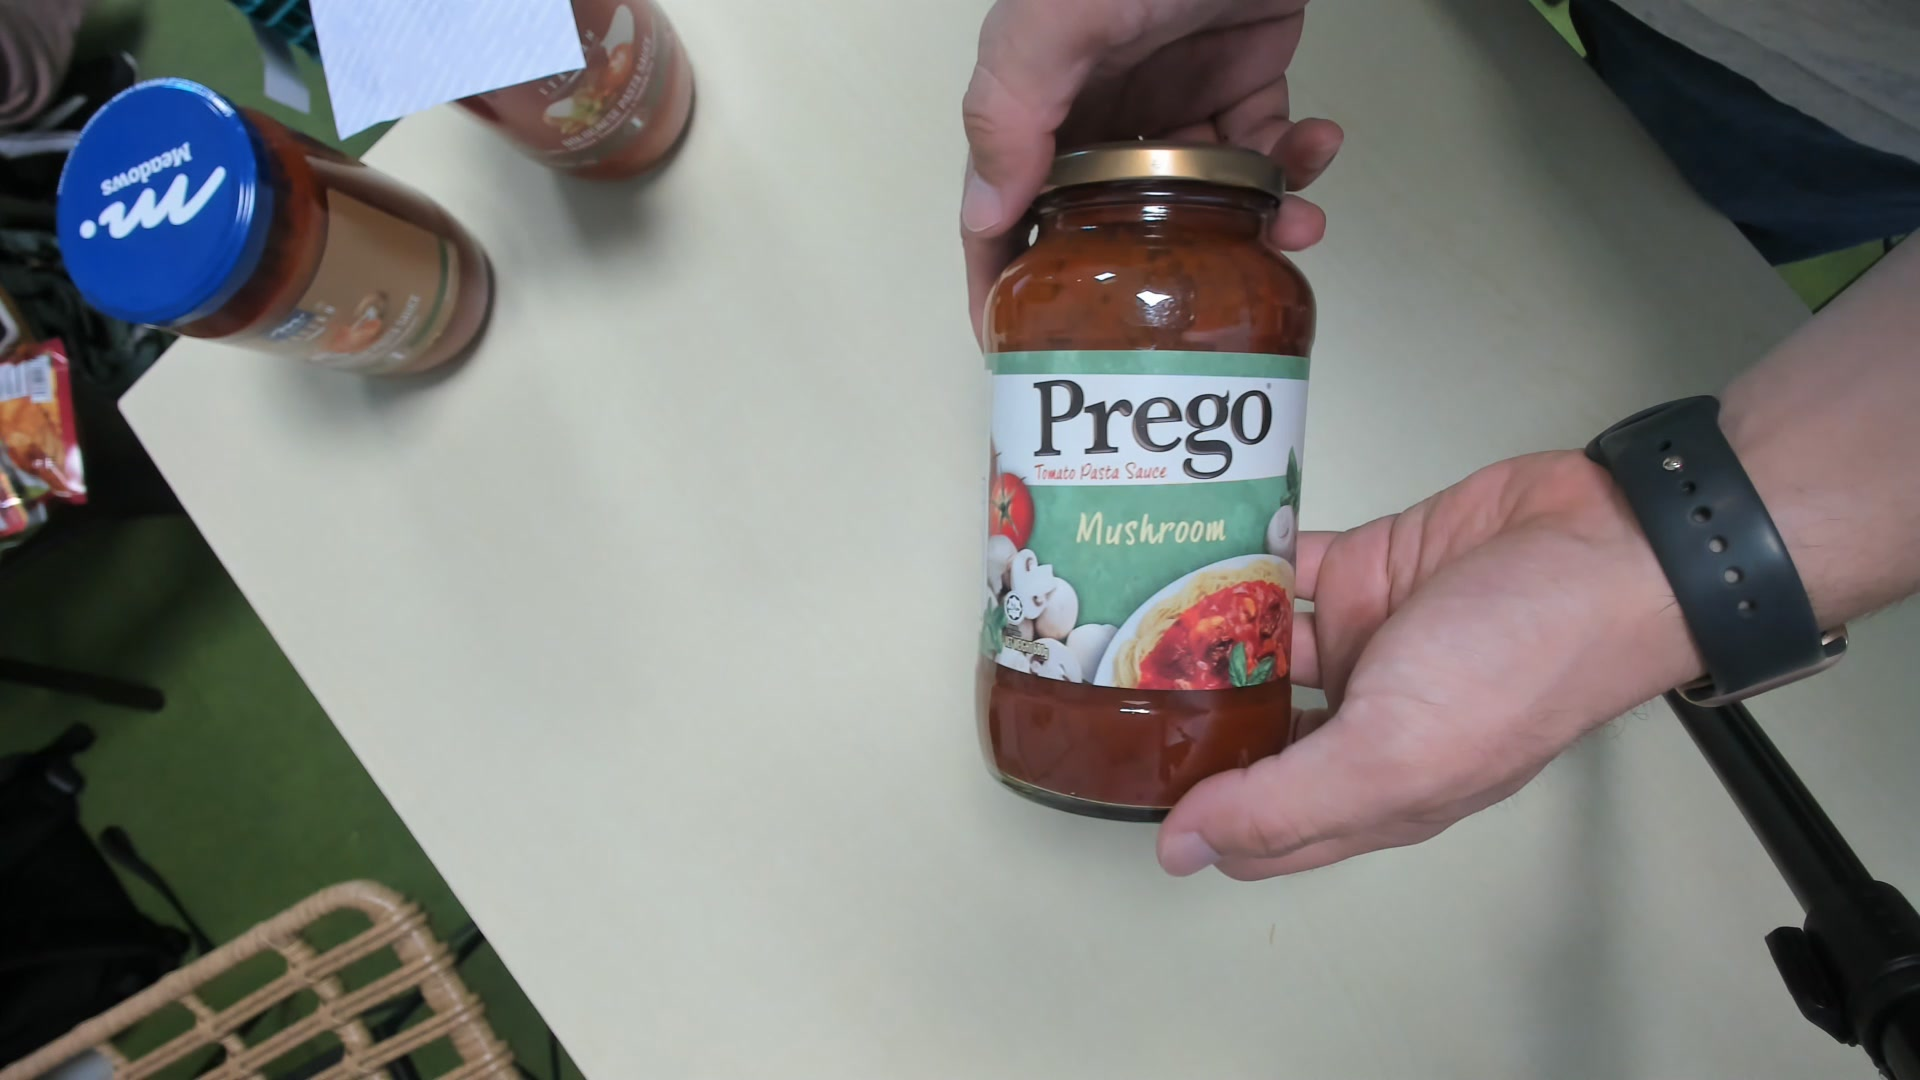PastaSauce_600-699g_Halal_NonHealthy: (985, 138, 1290, 832)
